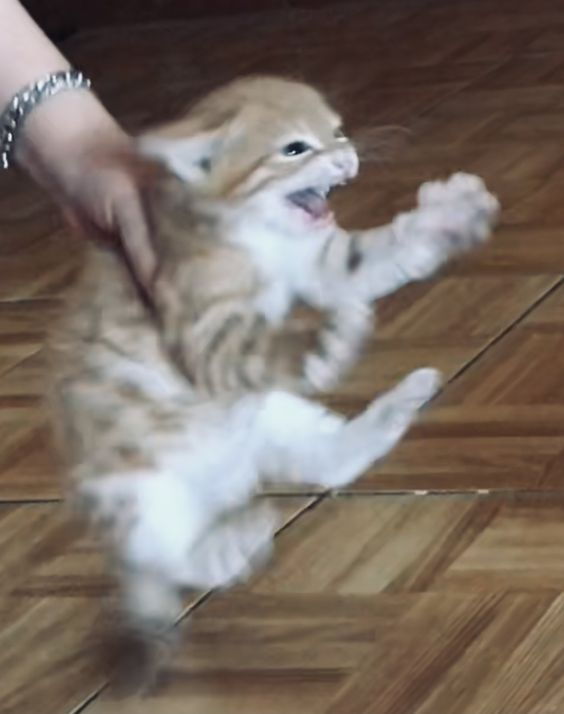cat: (68, 74, 500, 695)
